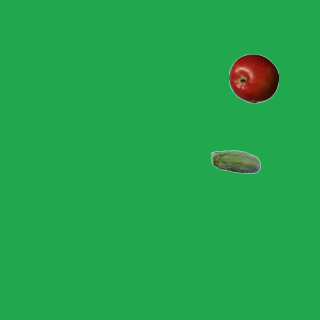Apple Braeburn: (228, 53, 278, 103)
Corn Husk: (210, 138, 260, 188)
